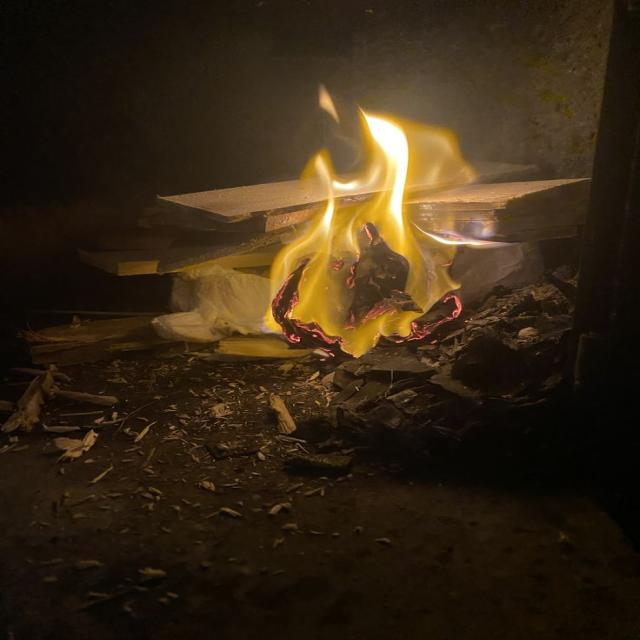fire: (264, 83, 471, 357)
